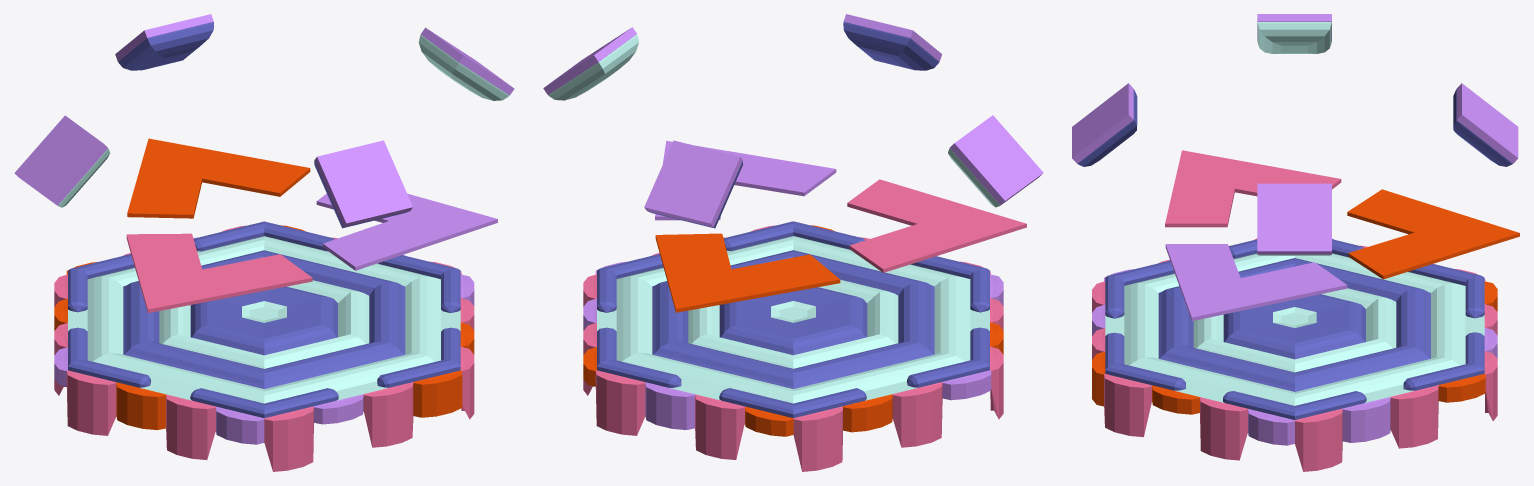
The model's file is G_BouncyHex.fbx.
3 views of the same model, side by side, from view 1: azimuth 30°, elevation 25°; view 2: azimuth 150°, elevation 25°; view 3: azimuth 270°, elevation 25° (orthographic). The views are drawn at different scales.
Parts seen in each view (by area): view 1: G_InnerBounce, G_BouncyHexagonDrip, G_OuterBounceCut, G_RedPlatform, G_MagentaPlatform, G_PurplePlatform, G_FloatBounce1, G_FloatBounce2, G_FloatBounce, G_FloatBounce3, G_BouncyHexagon; view 2: G_InnerBounce, G_BouncyHexagonDrip, G_OuterBounceCut, G_MagentaPlatform, G_RedPlatform, G_FloatBounce, G_FloatBounce2, G_FloatBounce1, G_PurplePlatform, G_FloatBounce3, G_BouncyHexagon; view 3: G_InnerBounce, G_BouncyHexagonDrip, G_OuterBounceCut, G_RedPlatform, G_PurplePlatform, G_MagentaPlatform, G_FloatBounce3, G_FloatBounce, G_FloatBounce1, G_FloatBounce2, G_BouncyHexagon.
Boxes of the visible parts, box(x1,y1,x2,y2) form: G_InnerBounce: box(87, 236, 440, 403); G_BouncyHexagonDrip: box(54, 225, 474, 471); G_OuterBounceCut: box(68, 221, 460, 418); G_RedPlatform: box(127, 138, 310, 218); G_MagentaPlatform: box(126, 233, 312, 312); G_PurplePlatform: box(316, 193, 497, 270); G_FloatBounce1: box(314, 140, 412, 228); G_FloatBounce2: box(14, 115, 110, 207); G_FloatBounce: box(115, 14, 213, 70); G_FloatBounce3: box(418, 27, 514, 100); G_BouncyHexagon: box(68, 251, 460, 400); G_InnerBounce: box(616, 236, 970, 403); G_BouncyHexagonDrip: box(583, 225, 1003, 471); G_OuterBounceCut: box(597, 221, 989, 418); G_MagentaPlatform: box(847, 179, 1026, 272); G_RedPlatform: box(655, 233, 840, 312); G_FloatBounce: box(644, 140, 742, 228); G_FloatBounce2: box(948, 115, 1043, 207); G_FloatBounce1: box(843, 14, 942, 70); G_PurplePlatform: box(655, 141, 836, 220); G_FloatBounce3: box(543, 27, 638, 100); G_BouncyHexagon: box(597, 251, 989, 400); G_InnerBounce: box(1124, 253, 1465, 405); G_BouncyHexagonDrip: box(1092, 238, 1497, 471); G_OuterBounceCut: box(1105, 239, 1484, 419); G_RedPlatform: box(1347, 189, 1519, 279); G_PurplePlatform: box(1165, 244, 1347, 320); G_MagentaPlatform: box(1165, 150, 1341, 227); G_FloatBounce3: box(1257, 183, 1331, 255); G_FloatBounce: box(1453, 83, 1518, 166); G_FloatBounce1: box(1072, 83, 1137, 166); G_FloatBounce2: box(1257, 14, 1331, 53); G_BouncyHexagon: box(1105, 258, 1484, 402).
Size of the model in its own units: 4066 by 2431 by 3539.
